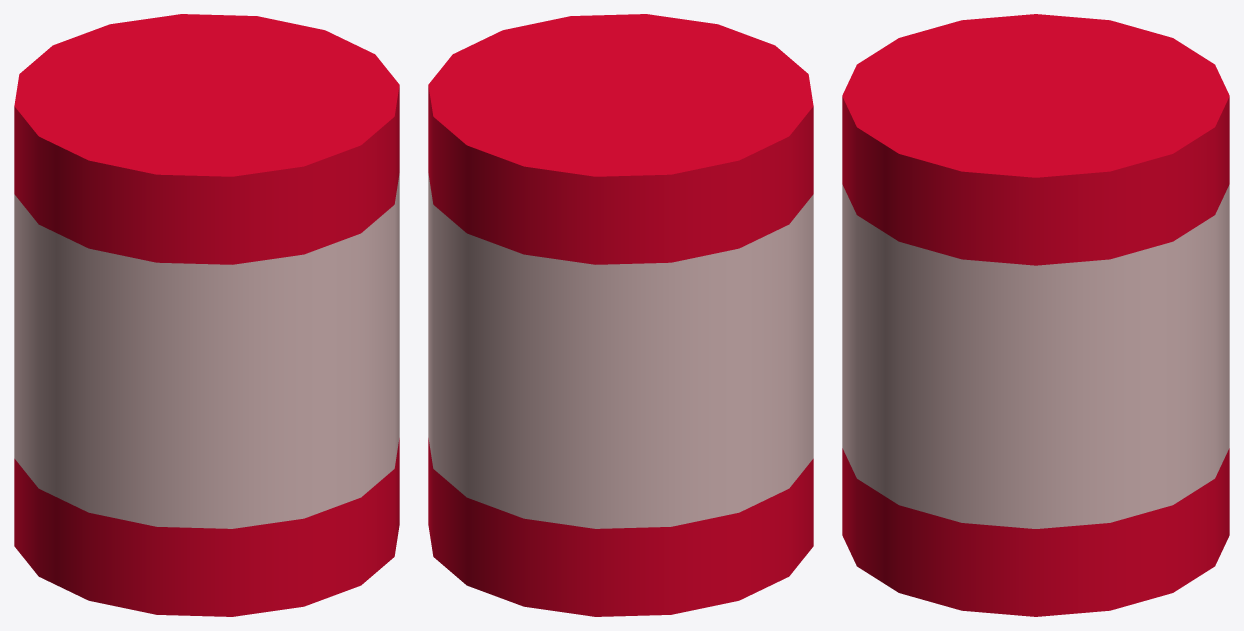
File: Barrel.fbx
3 renders of one model, left to right at view 1: azimuth 30°, elevation 25°; view 2: azimuth 150°, elevation 25°; view 3: azimuth 270°, elevation 25°, orthographic.
Visible parts, largest first — view 1: Cylinder; view 2: Cylinder; view 3: Cylinder.
Part boxes in pixels (bbox=[...]): Cylinder: bbox=[14, 14, 399, 616]; Cylinder: bbox=[428, 14, 813, 616]; Cylinder: bbox=[842, 14, 1229, 616].
Size of the model in its own units: 200 by 200 by 250.
